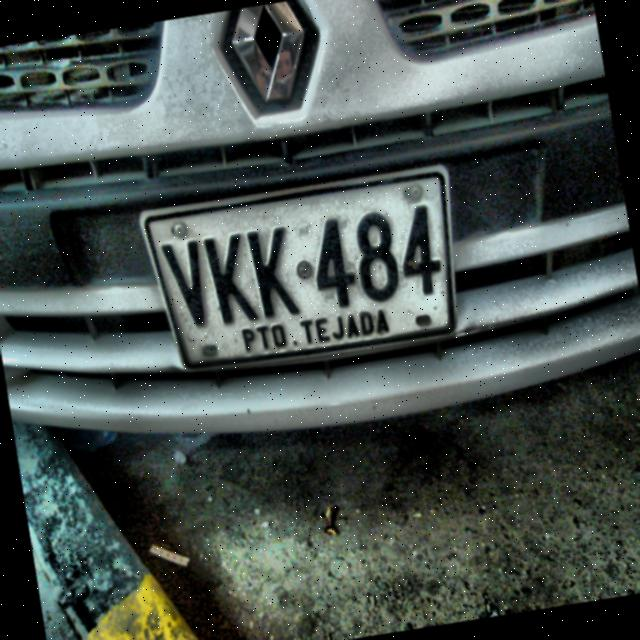4: (305, 215, 362, 313), (392, 201, 446, 304)
8: (349, 209, 404, 308)
K: (201, 227, 262, 329), (243, 222, 304, 323)
V: (158, 236, 220, 336)
